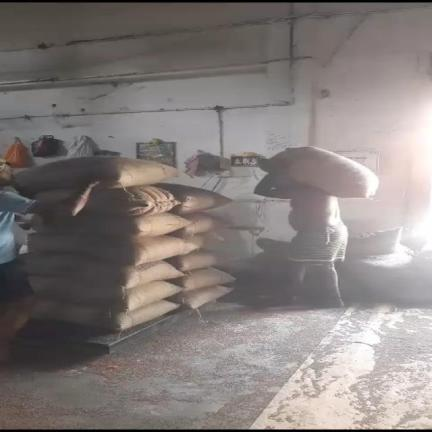Zone-Counting: (254, 146, 378, 306)
